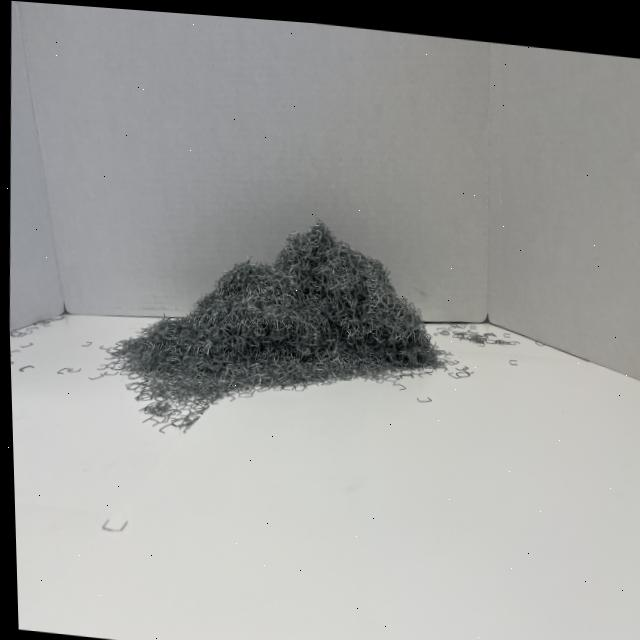staples: (84, 190, 450, 465)
